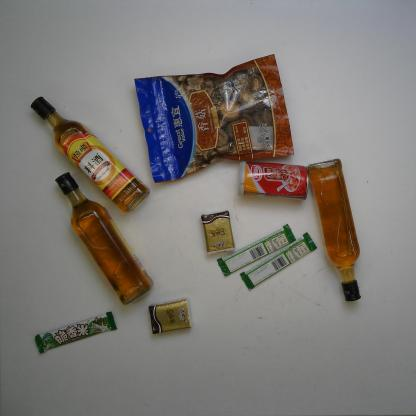Canned Food: (236, 160, 312, 201)
Chocolate: (240, 232, 317, 290), (216, 224, 296, 277), (34, 311, 118, 354)
Dried Food: (132, 53, 297, 184)
Seasoner: (30, 95, 151, 213), (54, 171, 154, 306), (307, 156, 365, 302)
Tissue: (200, 209, 238, 255), (148, 297, 193, 335)
